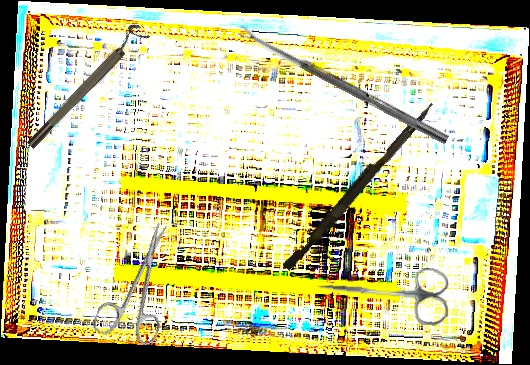Fixation Ring: (19, 20, 151, 152)
Iris Scissors: (90, 214, 195, 352), (315, 260, 451, 327)
Pusher: (282, 96, 436, 275)
Surgical Spoon: (237, 24, 450, 145)
